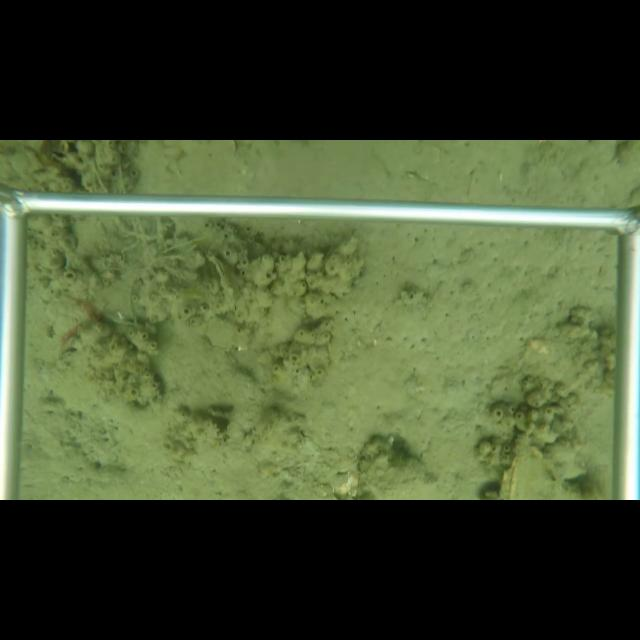Oyster-Closed: (205, 297, 307, 354), (305, 225, 363, 318), (205, 253, 239, 316)
